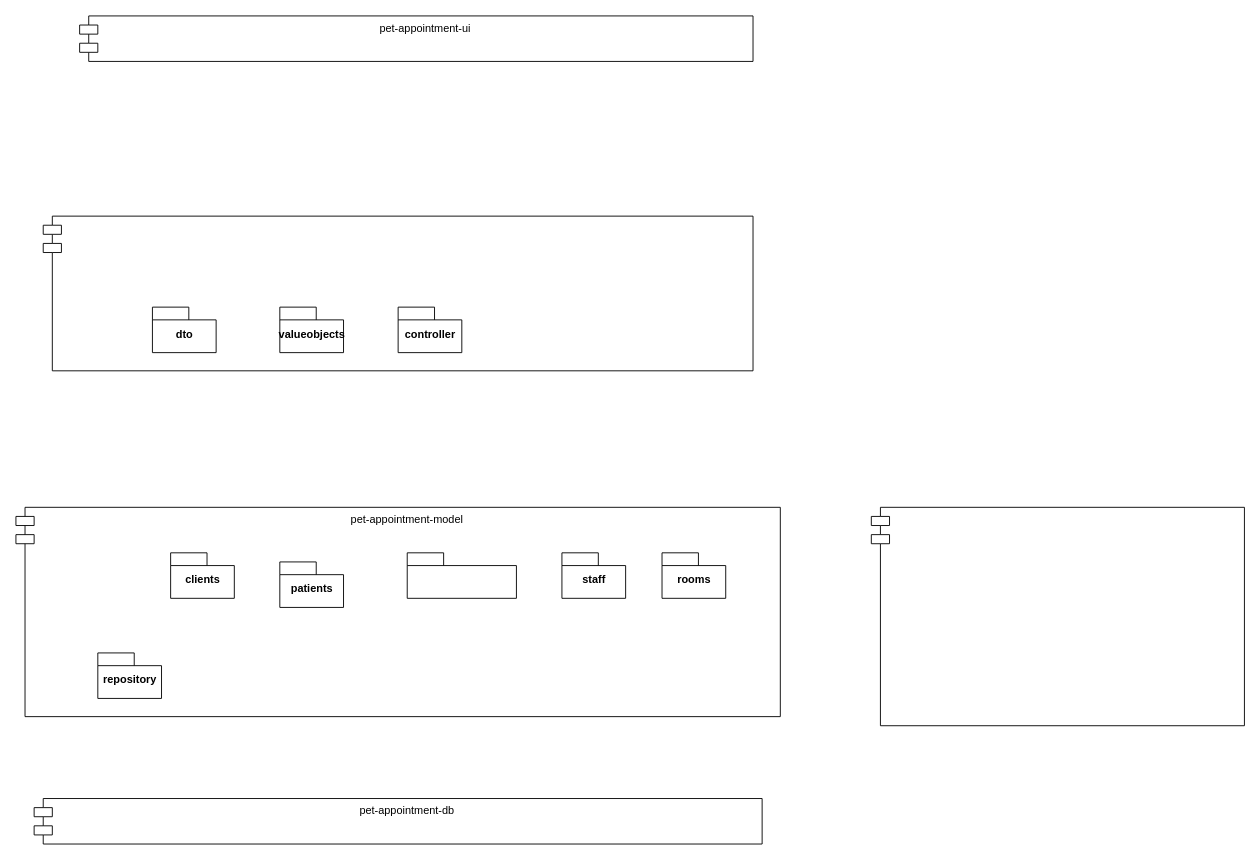
Image size: 1260x860. Some labels were removed from this diagram. Here are the shapes that lost their labels. From the top down, the box of each, then its label:
(42, 215, 753, 371): pet-appointment-rest
(406, 552, 516, 598): appointments
(870, 506, 1244, 726): pet-appointment-events
